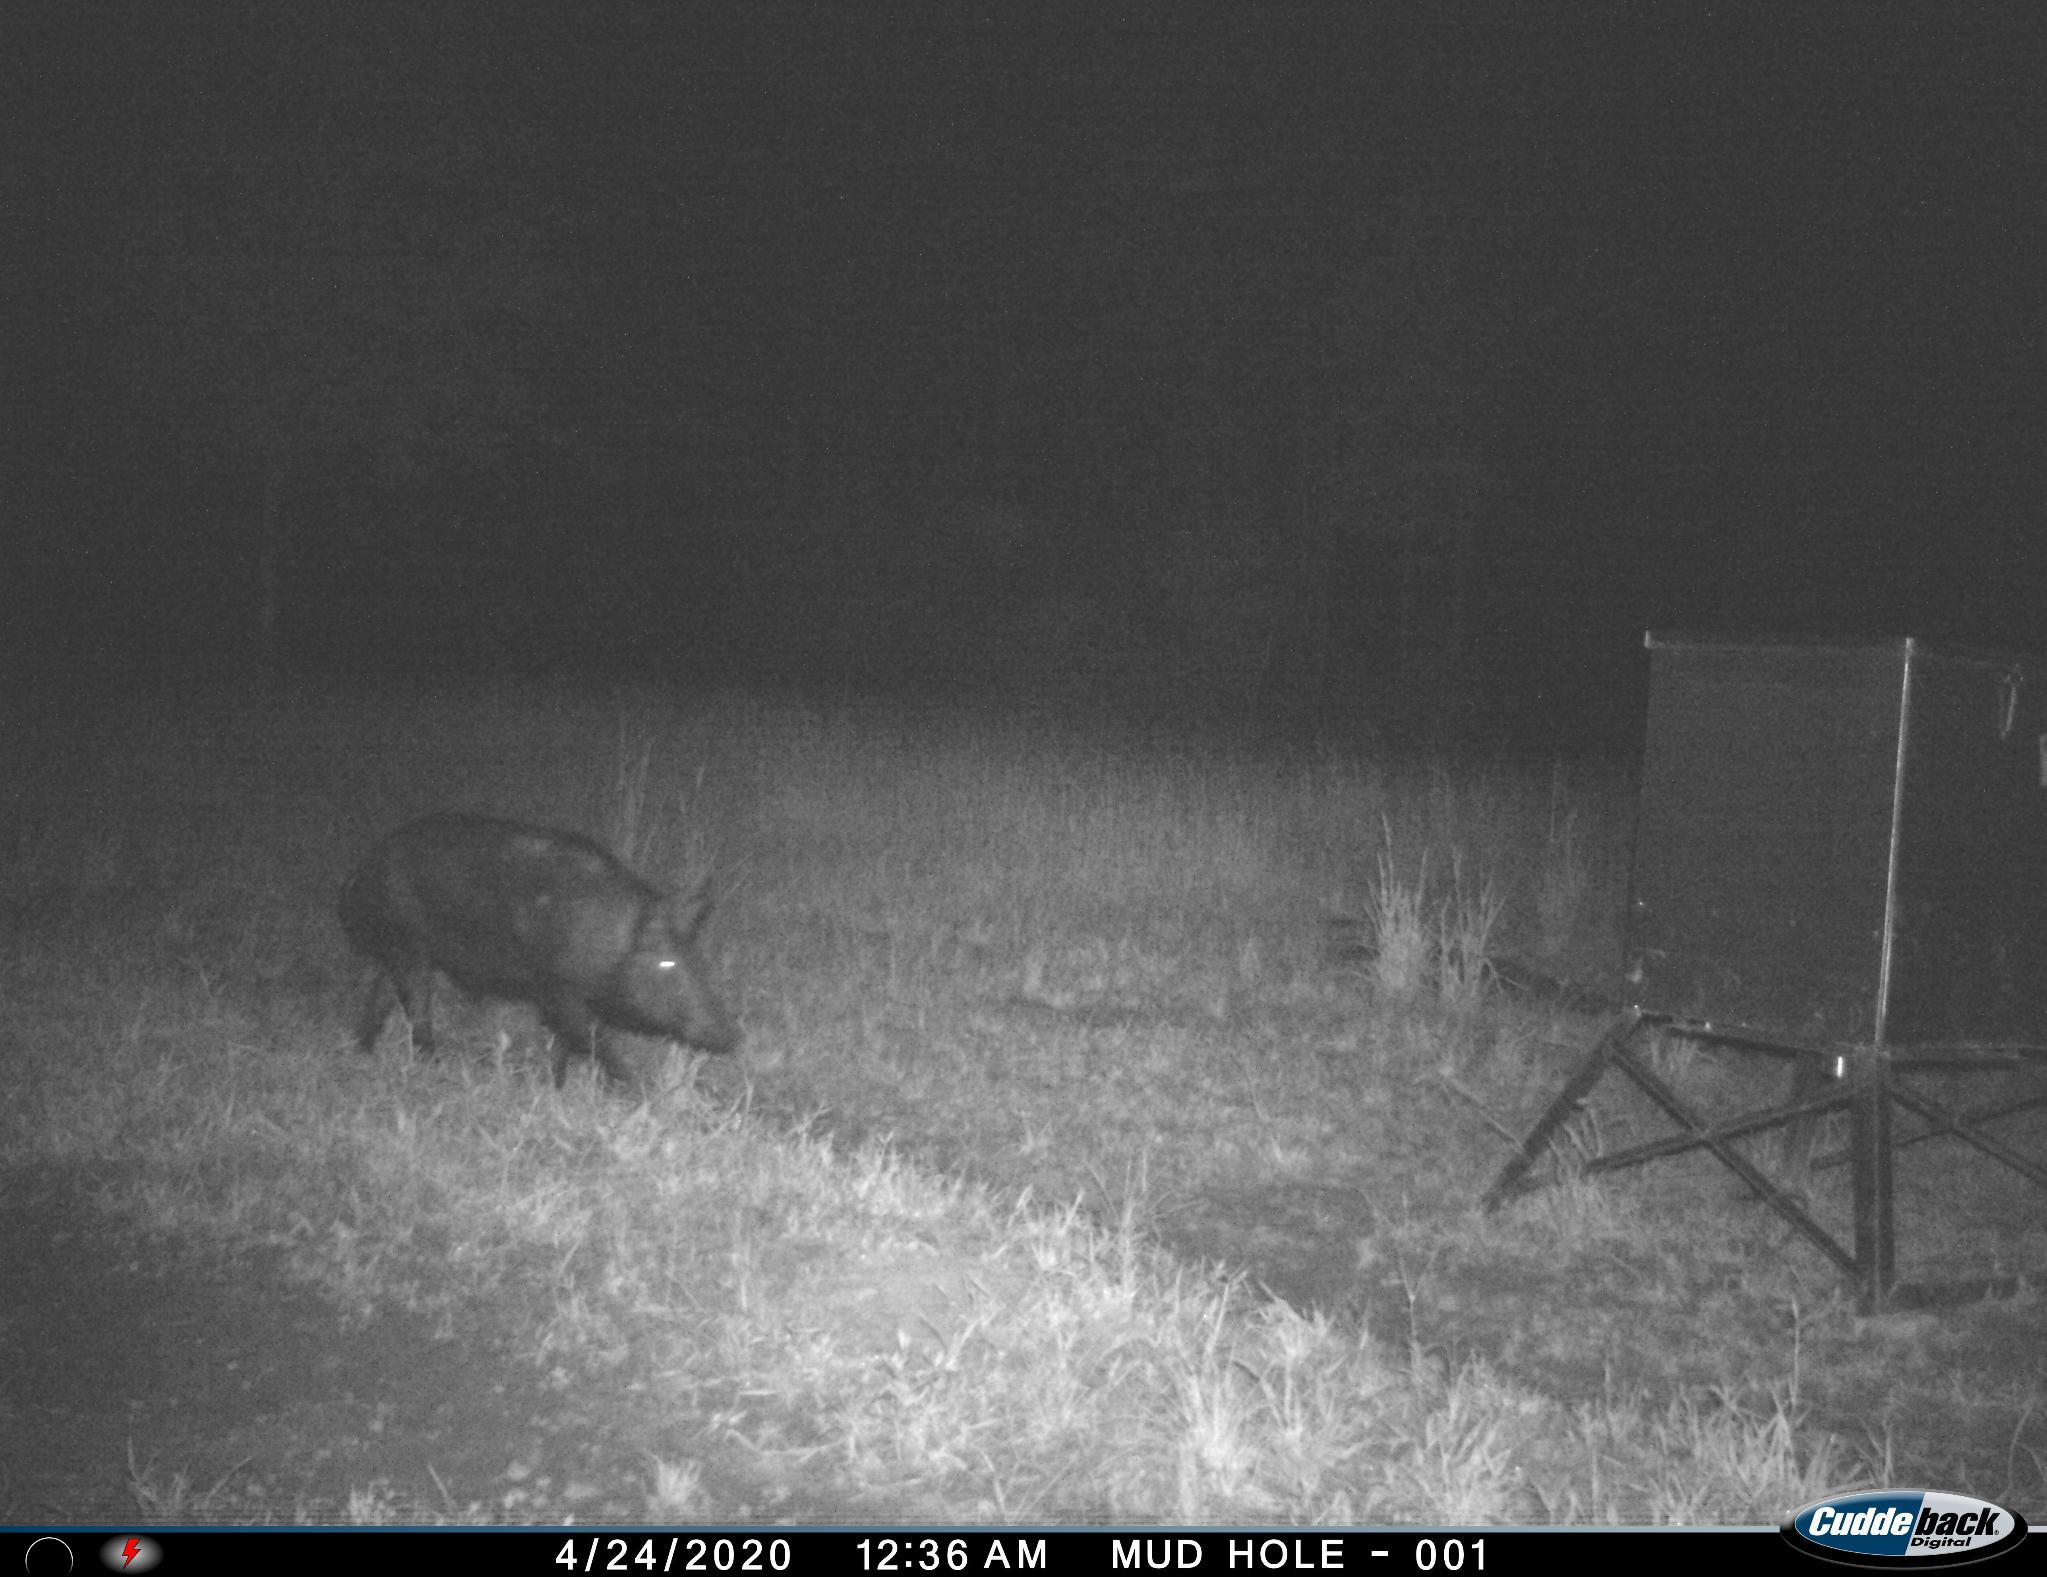Hog: (336, 800, 755, 1118)
